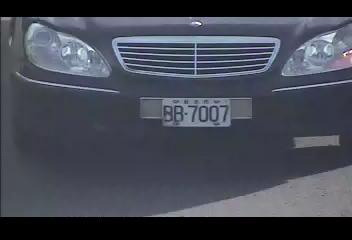plate: (161, 96, 230, 129)
